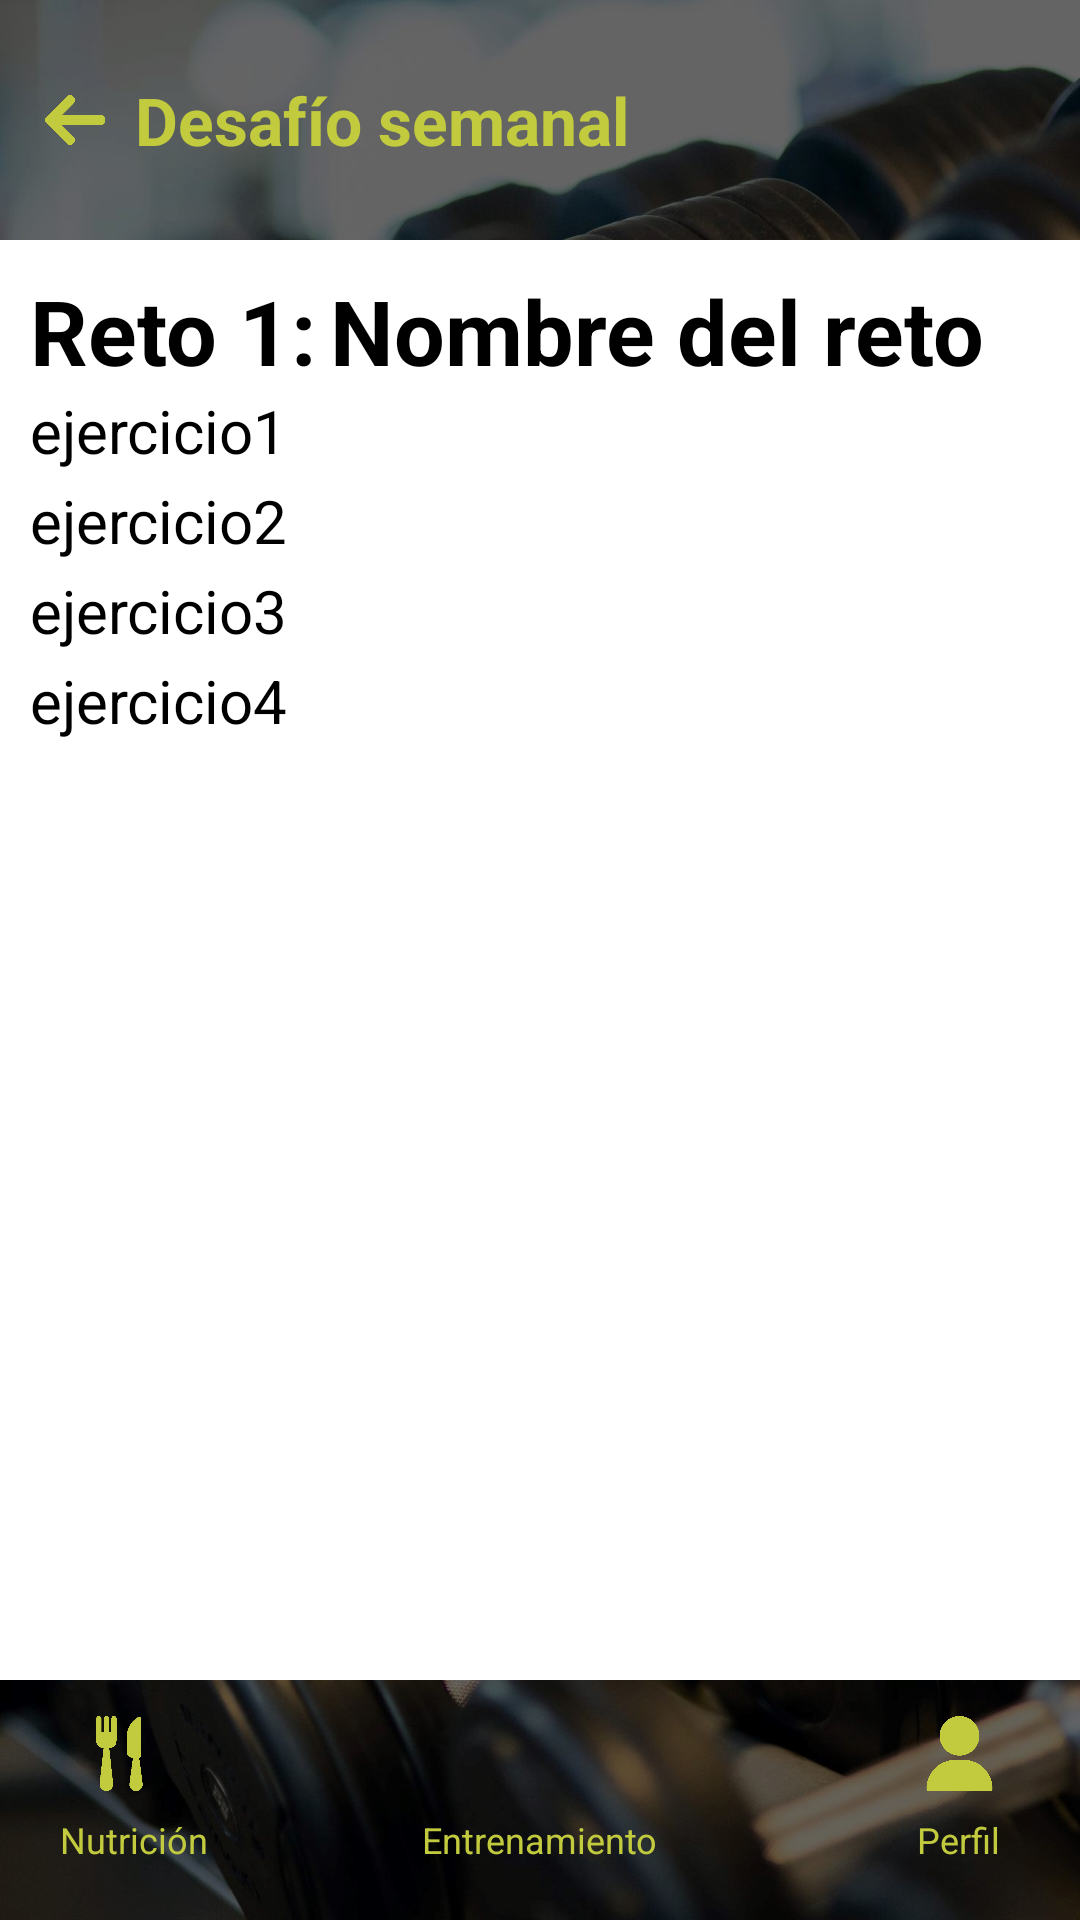

Icons on this 1080px×1920px Android screen, each with the point to tap as point (x, y):
flechatras: point (75, 120)
